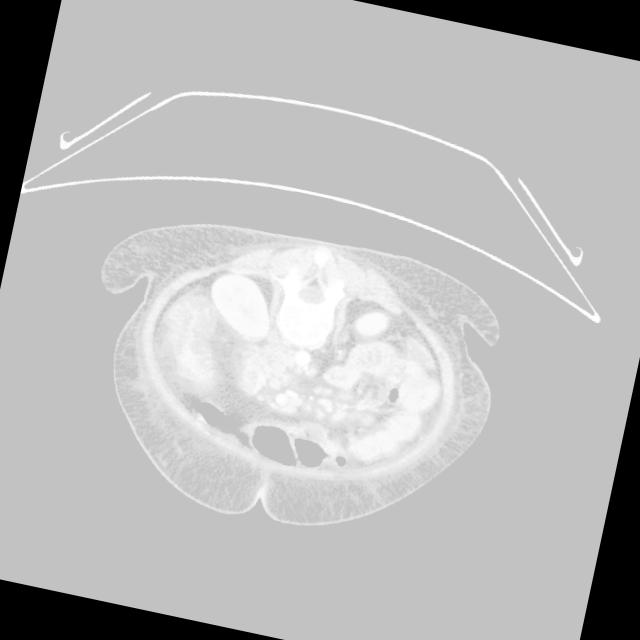NORMAL: (65, 216, 504, 577)
